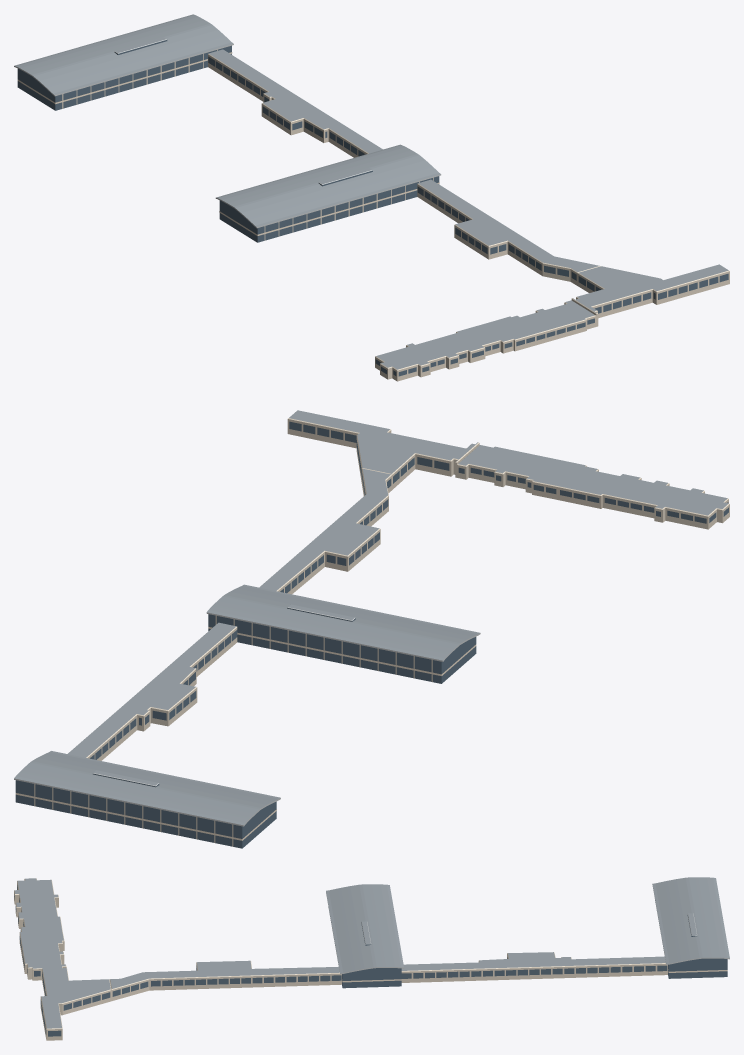
The picture shows the model from 3 angles, top to bottom: view 1: azimuth 30°, elevation 25°; view 2: azimuth 150°, elevation 25°; view 3: azimuth 270°, elevation 25°; orthographic projection. The views are drawn at different scales.
Visible parts, largest first — view 1: charlotte-douglas-international-airport-concourse-a; view 2: charlotte-douglas-international-airport-concourse-a; view 3: charlotte-douglas-international-airport-concourse-a.
Boxes of the visible parts, box(x1,y1,x2,y2) form: charlotte-douglas-international-airport-concourse-a: box(14, 14, 729, 381); charlotte-douglas-international-airport-concourse-a: box(14, 410, 729, 848); charlotte-douglas-international-airport-concourse-a: box(14, 877, 729, 1040).
Size of the model in its own units: 290 by 18.8 by 576.
